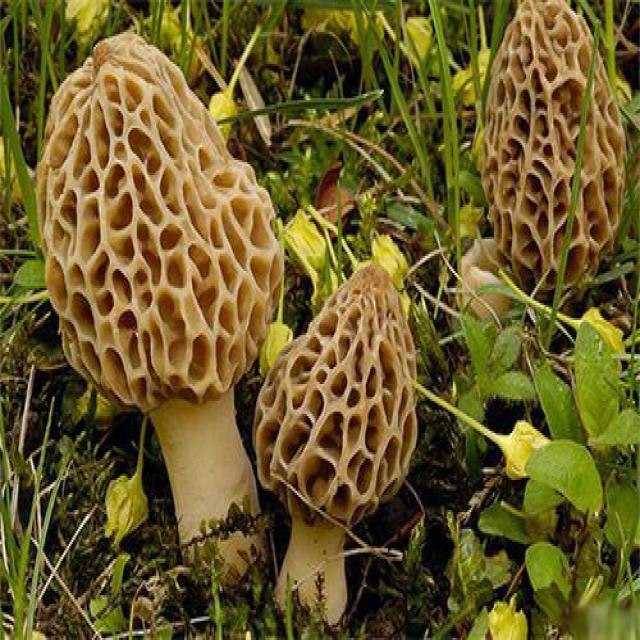Morchella esculenta: (38, 33, 280, 591), (257, 265, 424, 629), (491, 0, 625, 287)
